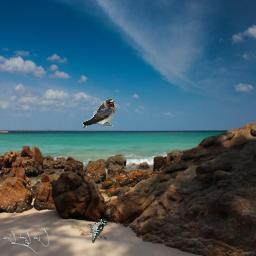Swallow: (82, 98, 116, 128)
Woodpecker: (87, 219, 107, 243)
